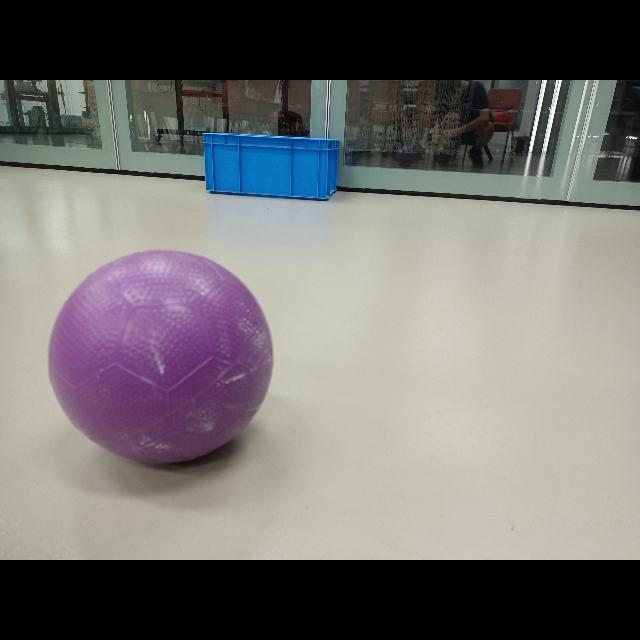P: (51, 248, 275, 466)
